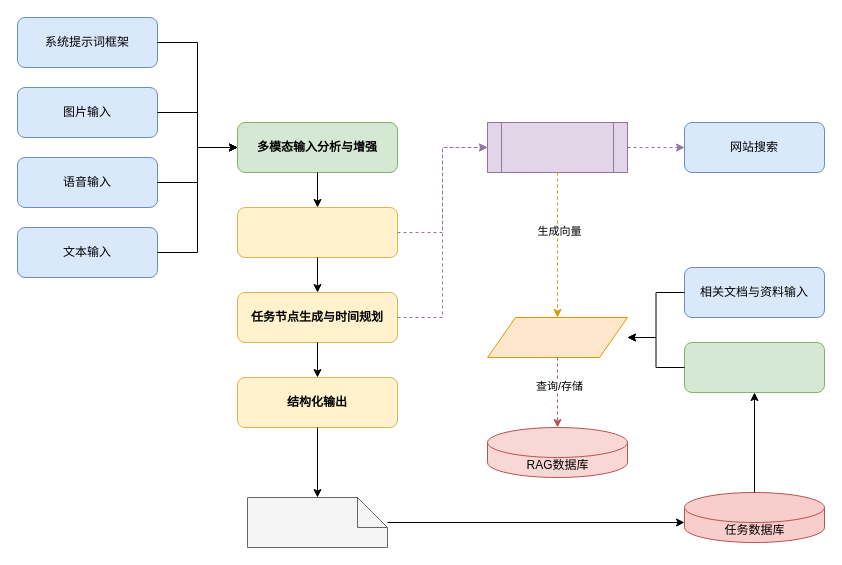
This 842x565 diagram has some shape labels left out. The shapes that lost their labels are listed below. From the top down, each one's centre as x and y in pixels, then its label:
point 557,147: MCP服务器
point 317,232: 潜在任务分析
point 557,337: 本地embedding模型
point 754,367: 月度总结生成
point 317,522: 输出JSON
